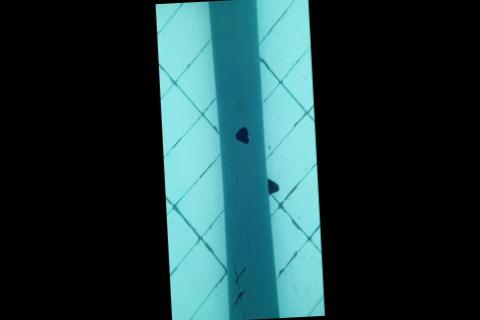kebocoran: (234, 125, 250, 148)
keretakan: (228, 258, 249, 320)
